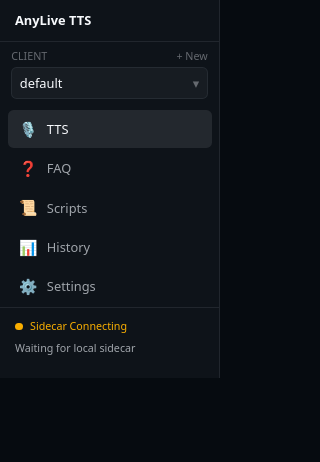
Scenario: Sidebar — client create form › toggles create form open when + New clicked
Step 1. Click the button with test id "new-client-button" → (192, 57), box [176, 49, 208, 64]
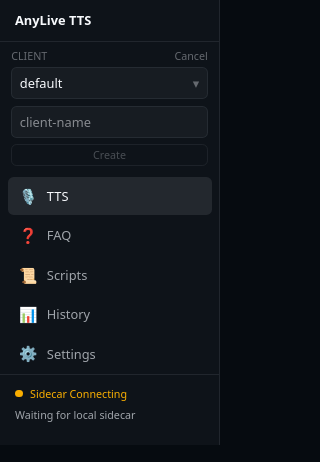
Check: the field with test id "new-client-input" is shown, box [11, 106, 208, 138]
Check: the button with test id "create-client-button" is shown, box [11, 144, 208, 166]
